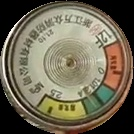green: (83, 85, 116, 114)
needle: (78, 82, 98, 111)
red: (102, 39, 126, 90)
yellow: (39, 94, 87, 120)
